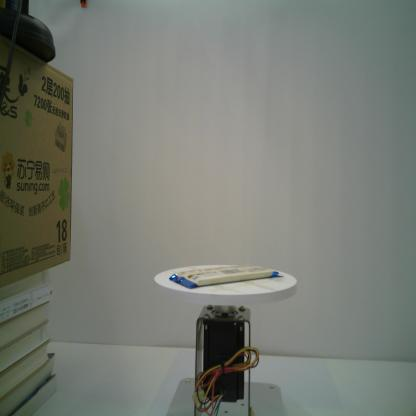Chocolate: (168, 262, 285, 290)
